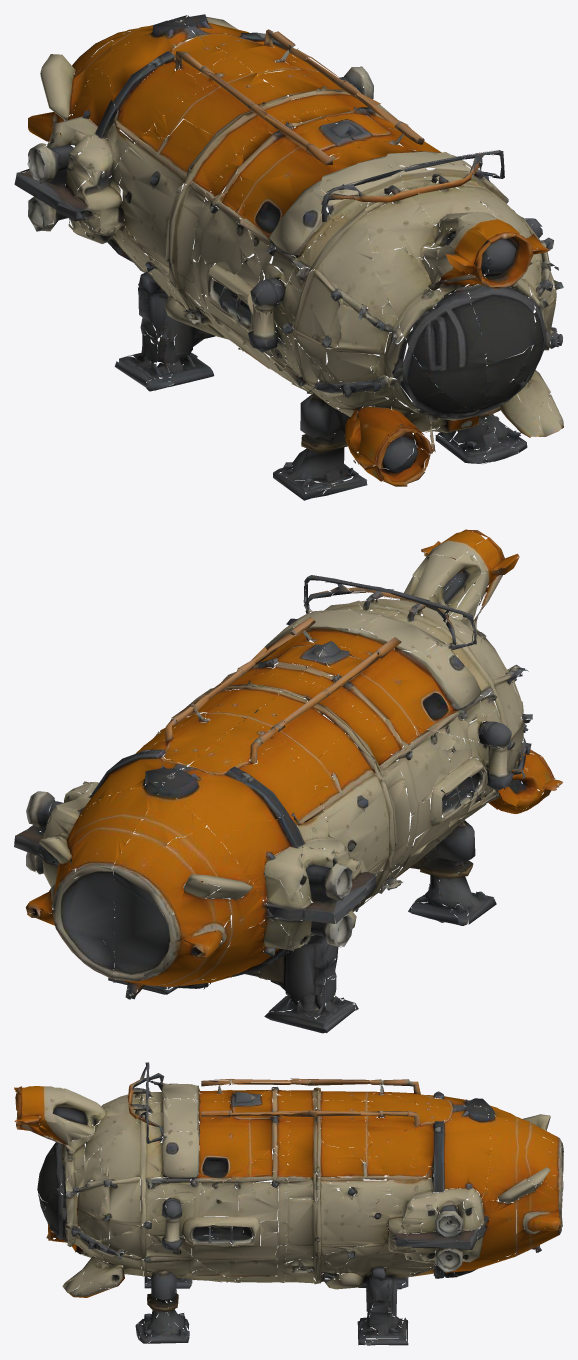
File: abyssal_subsea_survey_submersible.glb
3 views of the same model, one above another, from view 1: azimuth 30°, elevation 25°; view 2: azimuth 150°, elevation 25°; view 3: azimuth 270°, elevation 25° (orthographic). The views are drawn at different scales.
Parts seen in each view (by area): view 1: tripo_node_716502fa-5b90-45af-9ebf-dc460d4aba1d; view 2: tripo_node_716502fa-5b90-45af-9ebf-dc460d4aba1d; view 3: tripo_node_716502fa-5b90-45af-9ebf-dc460d4aba1d.
Part boxes in pixels (left/top/right/bottom): tripo_node_716502fa-5b90-45af-9ebf-dc460d4aba1d: left=14, top=14, right=563, bottom=500; tripo_node_716502fa-5b90-45af-9ebf-dc460d4aba1d: left=14, top=529, right=562, bottom=1033; tripo_node_716502fa-5b90-45af-9ebf-dc460d4aba1d: left=14, top=1062, right=563, bottom=1345.
Bounding box in the file's own units: 3.22 × 2.82 × 6.34.
1 material, 1 textured.
